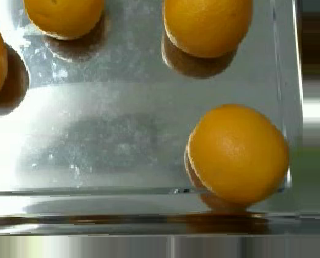Orange: (187, 103, 290, 202)
